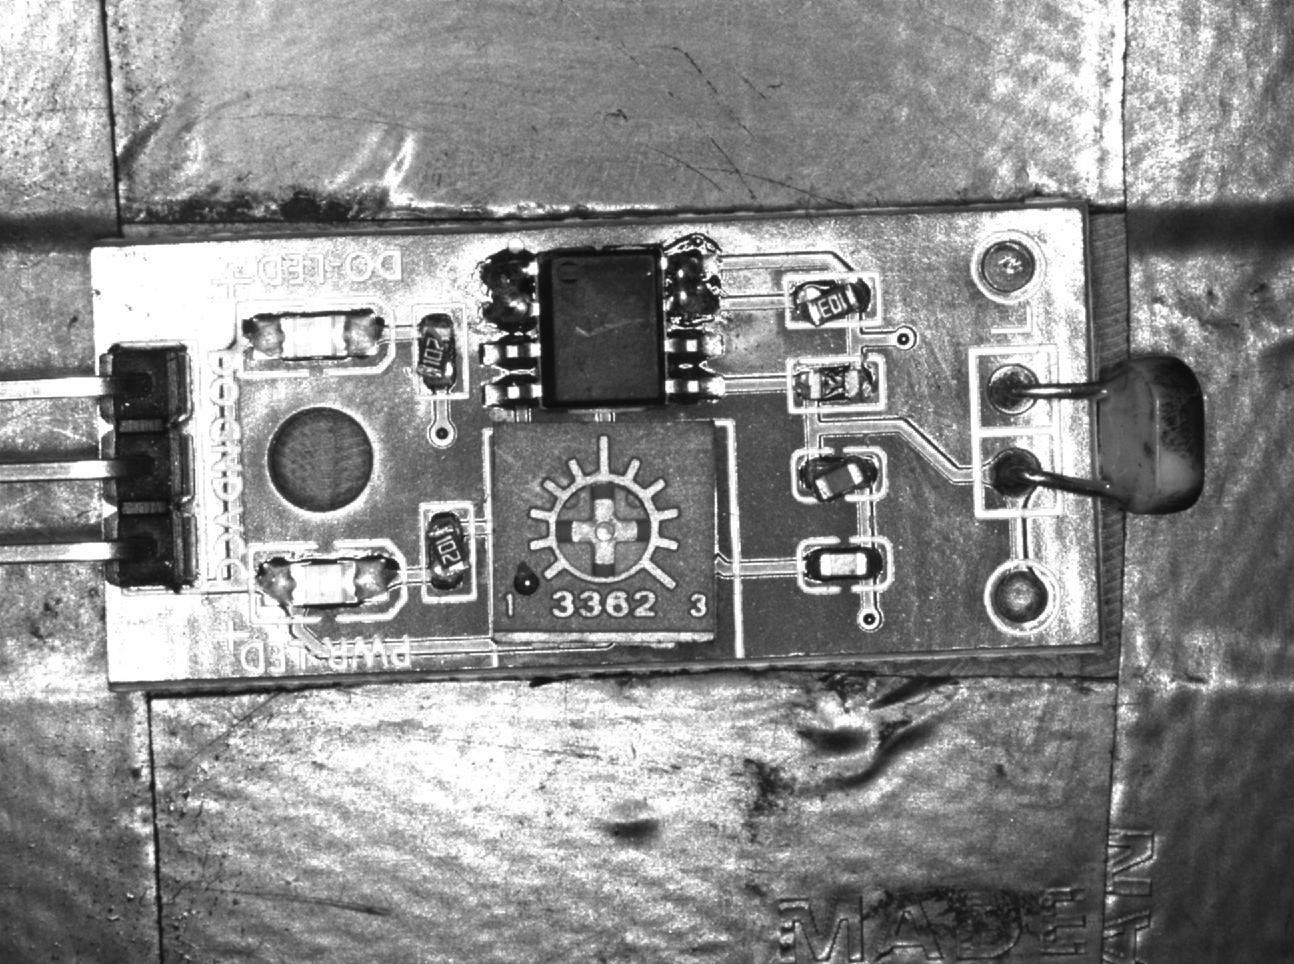bridge: (659, 249, 725, 321), (480, 256, 540, 328)
lifted: (419, 503, 480, 599), (792, 448, 887, 504), (410, 304, 466, 398), (787, 274, 881, 329)
miss: (790, 358, 884, 411)
ok: (801, 540, 890, 589)
